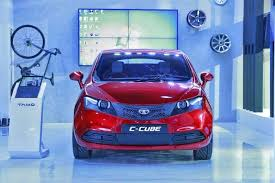Nano: (68, 48, 215, 162)
